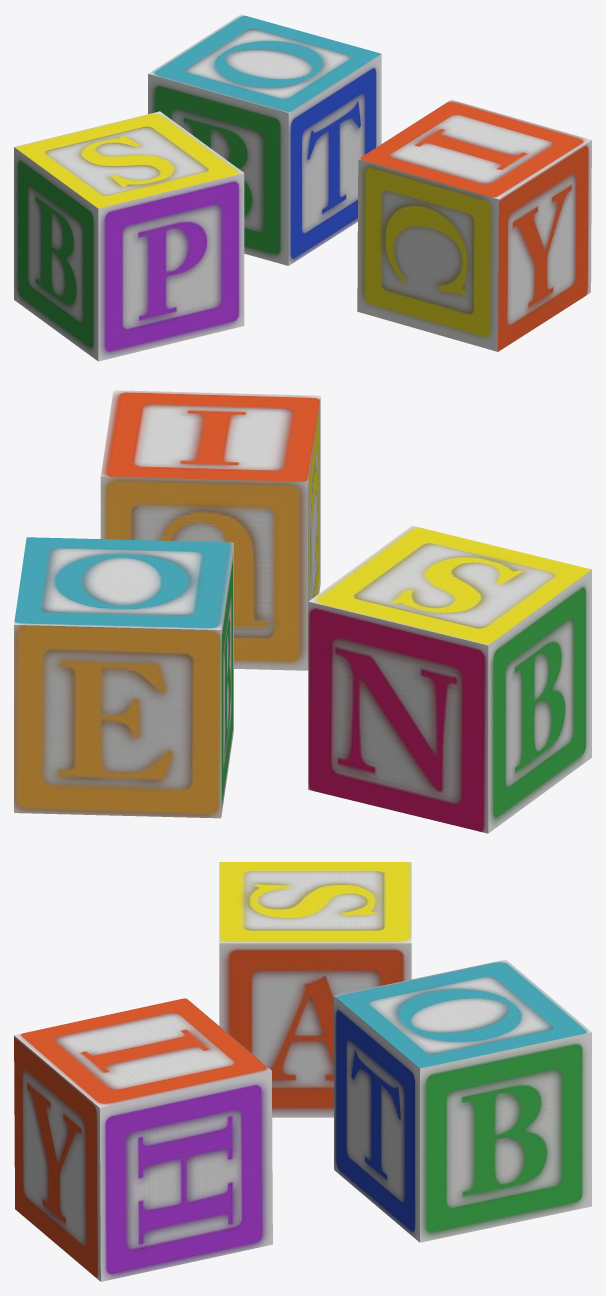
The model's file is blocks.fbx.
The picture shows the model from 3 angles, top to bottom: view 1: azimuth 30°, elevation 25°; view 2: azimuth 150°, elevation 25°; view 3: azimuth 270°, elevation 25°; orthographic projection. The views are drawn at different scales.
Visible parts, largest first — view 1: pCube4; view 2: pCube4; view 3: pCube4.
Boxes of the visible parts, x1=… form: pCube4: x1=14, y1=14, x2=591, y2=361; pCube4: x1=14, y1=390, x2=591, y2=833; pCube4: x1=14, y1=862, x2=591, y2=1281.
Bounding box in the file's own units: 0.8364 × 0.2787 × 0.8325.
